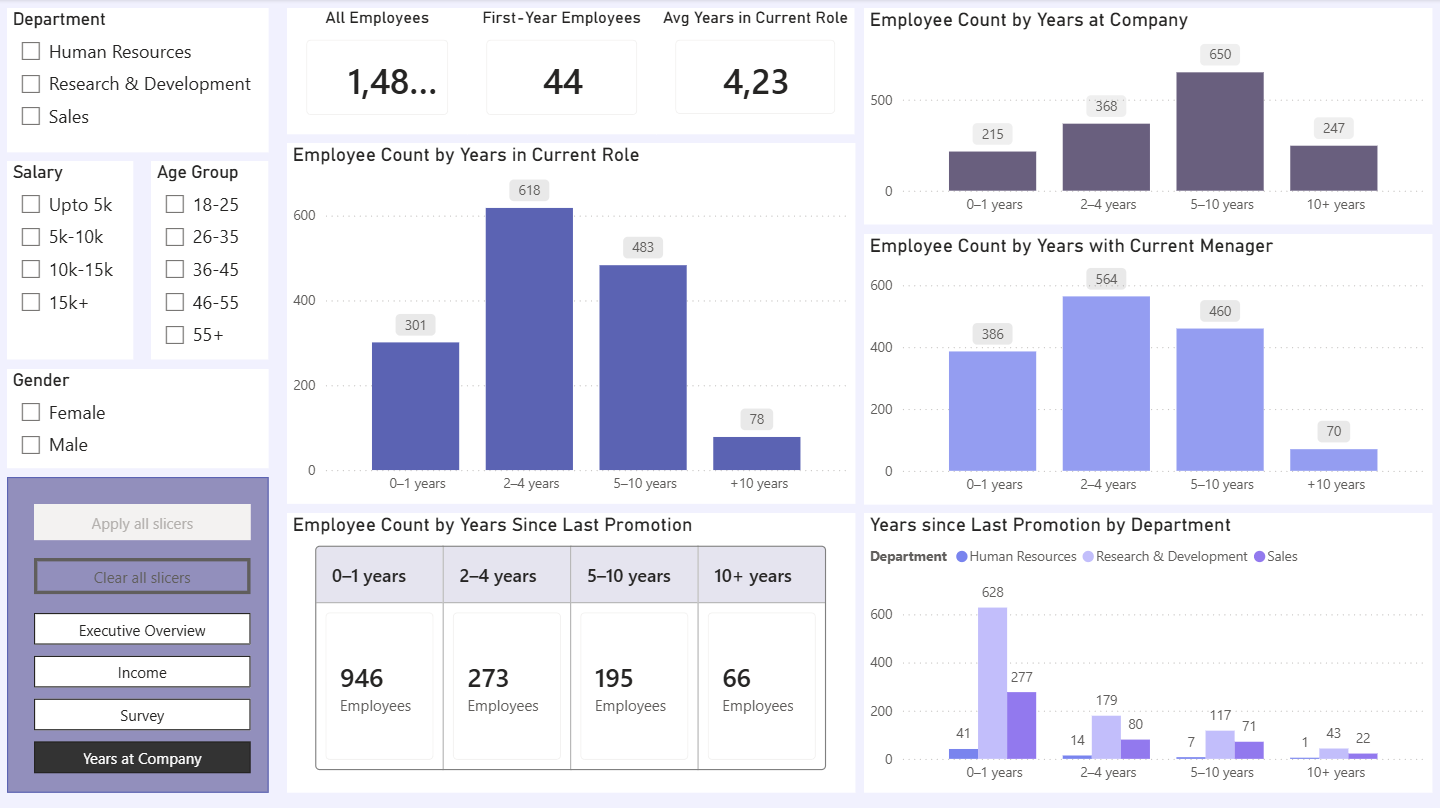

The dashboard page shown, as its layout file describes it:
{"tool":"powerbi","page":{"name":"Years at Company","canvas":[1280,720],"ordinal":3},"visuals":[{"type":"slicer","title":"Salary","fields":{"Values":["HR_Analytics.Salary Slab"]},"box":[8,144,112,176],"z":0},{"type":"slicer","title":"Gender","fields":{"Values":["HR_Analytics.Gender"]},"box":[8,328,232,88],"z":1000},{"type":"slicer","title":"Department","fields":{"Values":["HR_Analytics.Department"]},"box":[8,8,232,128],"z":2000},{"type":"slicer","title":"Age Group","fields":{"Values":["HR_Analytics.AgeGroup"]},"box":[136,144,104,176],"z":3000},{"type":"shape","box":[8,424,232,280],"z":4000},{"type":"pageNavigator","box":[32,544,192,144],"z":5000},{"type":"actionButton","box":[32,448,192,32],"z":6000},{"type":"actionButton","box":[32,496,192,32],"z":7000},{"type":"clusteredColumnChart","title":"Years since Last Promotion by Department","fields":{"Category":["HR_Analytics.Promotion Group"],"Y":["Sum(HR_Analytics.EmployeeCount)"],"Series":["HR_Analytics.Department"]},"box":[768,456,504,248],"z":8000},{"type":"clusteredColumnChart","title":"Employee Count by Years at Company","fields":{"Category":["HR_Analytics.Working Years Group"],"Y":["Sum(HR_Analytics.EmployeeCount)"]},"box":[768,8,504,192],"z":9000},{"type":"cardVisual","title":"Employee Count by Years Since Last Promotion","fields":{"Rows":["HR_Analytics.Promotion Group"],"Data":["Sum(HR_Analytics.EmployeeCount)"]},"box":[256,456,504,248],"z":10000},{"type":"clusteredColumnChart","title":"Employee Count by Years in Current Role","fields":{"Category":["HR_Analytics.Time Role Group"],"Y":["Sum(HR_Analytics.EmployeeCount)"]},"box":[256,128,504,320],"z":11000,"group":"g1"},{"type":"clusteredColumnChart","title":"Employee Count by Years with Current Menager","fields":{"Y":["Sum(HR_Analytics.EmployeeCount)"],"Category":["HR_Analytics.Time with Manager Group"]},"box":[768,208,504,240],"z":11000},{"type":"group","id":"g1","title":"Group 1","box":[256,128,504,320],"z":12000},{"type":"cardVisual","title":"First-Year Employees","fields":{"Data":["_Measures.New Employee"]},"box":[416,8,168,112],"z":13000},{"type":"cardVisual","title":"All Employees","fields":{"Data":["Sum(HR_Analytics.EmployeeCount)"]},"box":[256,8,160,112],"z":14000},{"type":"cardVisual","title":"Avg Years in Current Role","fields":{"Data":["_Measures.Avg Years in Current Role"]},"box":[583.4,8,176.5,111.7],"z":15000}]}

Visuals, with their boxes in screenshot pixels (x1, y1, x2, y2), scaled from the page's 1280x720 canvas onto the 1440x808 screenshot:
"Salary" slicer: [left=9, top=162, right=135, bottom=359]
"Gender" slicer: [left=9, top=368, right=270, bottom=467]
"Department" slicer: [left=9, top=9, right=270, bottom=153]
"Age Group" slicer: [left=153, top=162, right=270, bottom=359]
shape: [left=9, top=476, right=270, bottom=790]
pageNavigator: [left=36, top=610, right=252, bottom=772]
actionButton: [left=36, top=503, right=252, bottom=539]
actionButton: [left=36, top=557, right=252, bottom=593]
"Years since Last Promotion by Department" clusteredColumnChart: [left=864, top=512, right=1431, bottom=790]
"Employee Count by Years at Company" clusteredColumnChart: [left=864, top=9, right=1431, bottom=224]
"Employee Count by Years Since Last Promotion" cardVisual: [left=288, top=512, right=855, bottom=790]
"Employee Count by Years in Current Role" clusteredColumnChart: [left=288, top=144, right=855, bottom=503]
"Employee Count by Years with Current Menager" clusteredColumnChart: [left=864, top=233, right=1431, bottom=503]
"Group 1" group: [left=288, top=144, right=855, bottom=503]
"First-Year Employees" cardVisual: [left=468, top=9, right=657, bottom=135]
"All Employees" cardVisual: [left=288, top=9, right=468, bottom=135]
"Avg Years in Current Role" cardVisual: [left=656, top=9, right=855, bottom=134]
